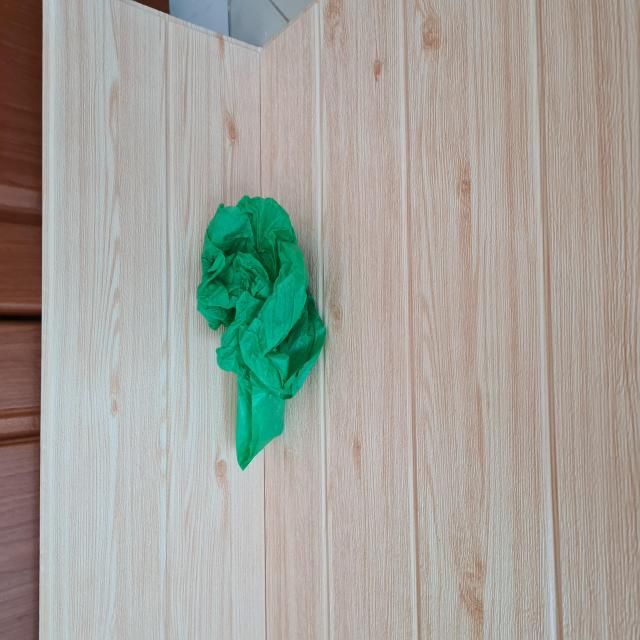plastic bag: (197, 194, 329, 474)
